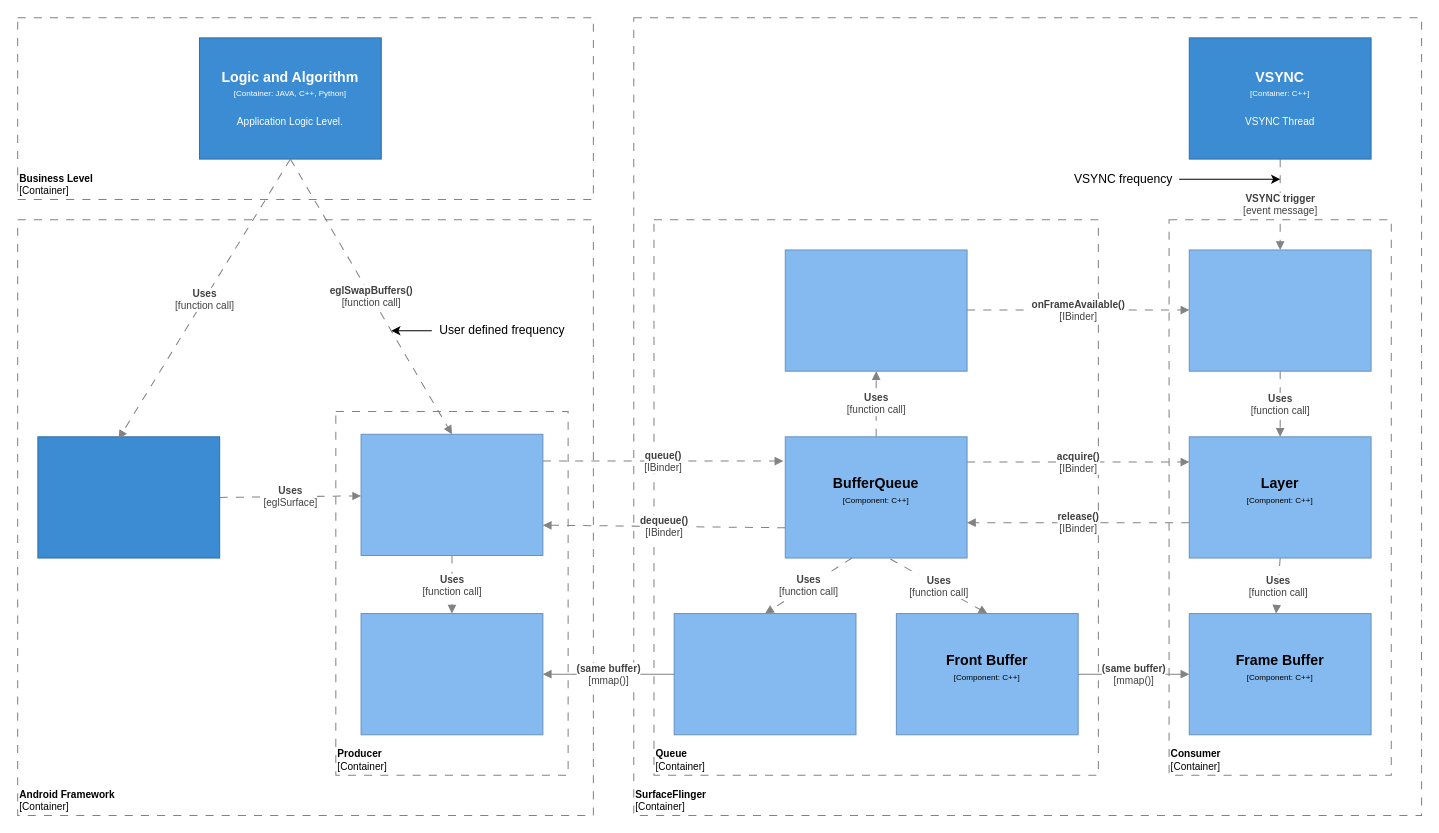
Some shapes in this 1439 by 833 pixel diagram are drawn without their labels. Each missing label, with the centre of its shape:
Back Buffer [Component: C++]: the point at 764,674
Free Buffer [Component: C++]: the point at 451,674
Listener [Component: C++] The Listener for Consumer.: the point at 875,310
Renderer [Container: C++ (hwui, skia)] Rendering module of Application.: the point at 128,497
SurfaceFlinger [Component: C++] Composition Thread.: the point at 1279,310
Window [Component: C++]: the point at 451,494
